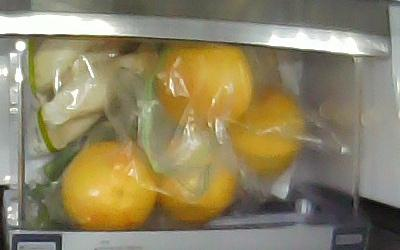grapefruit_vinyl: (59, 141, 158, 229), (155, 43, 252, 127), (156, 135, 238, 222), (229, 88, 308, 176)
